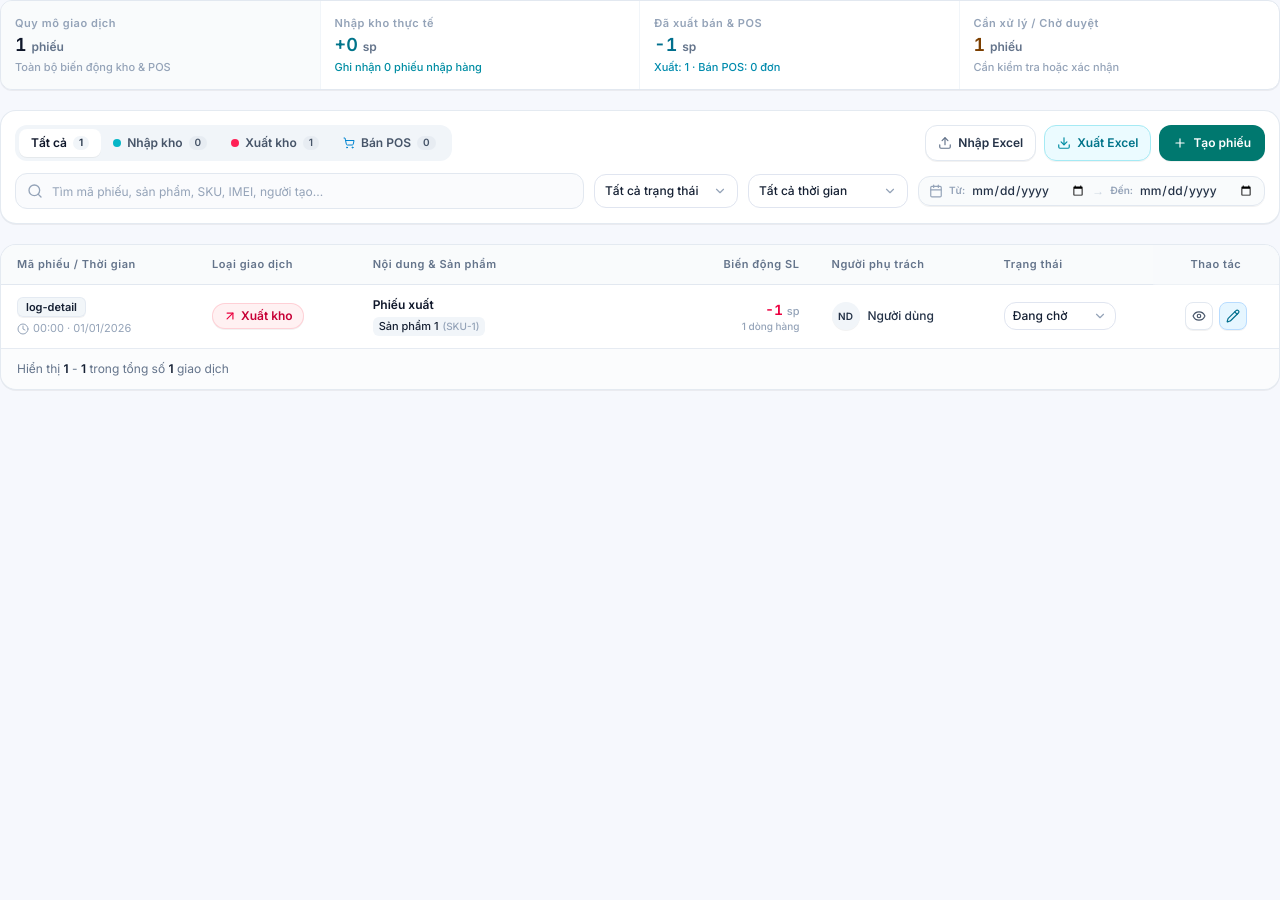
it: StockLogPanel › hiển thị SKU và IMEI đã lưu trong chi tiết phiếu xuất
What coordinates should you click on to do the following:
click the button named "Xem chi tiết"
I would click on:
 (1199, 316)
Its box is [1185,302,1213,330].
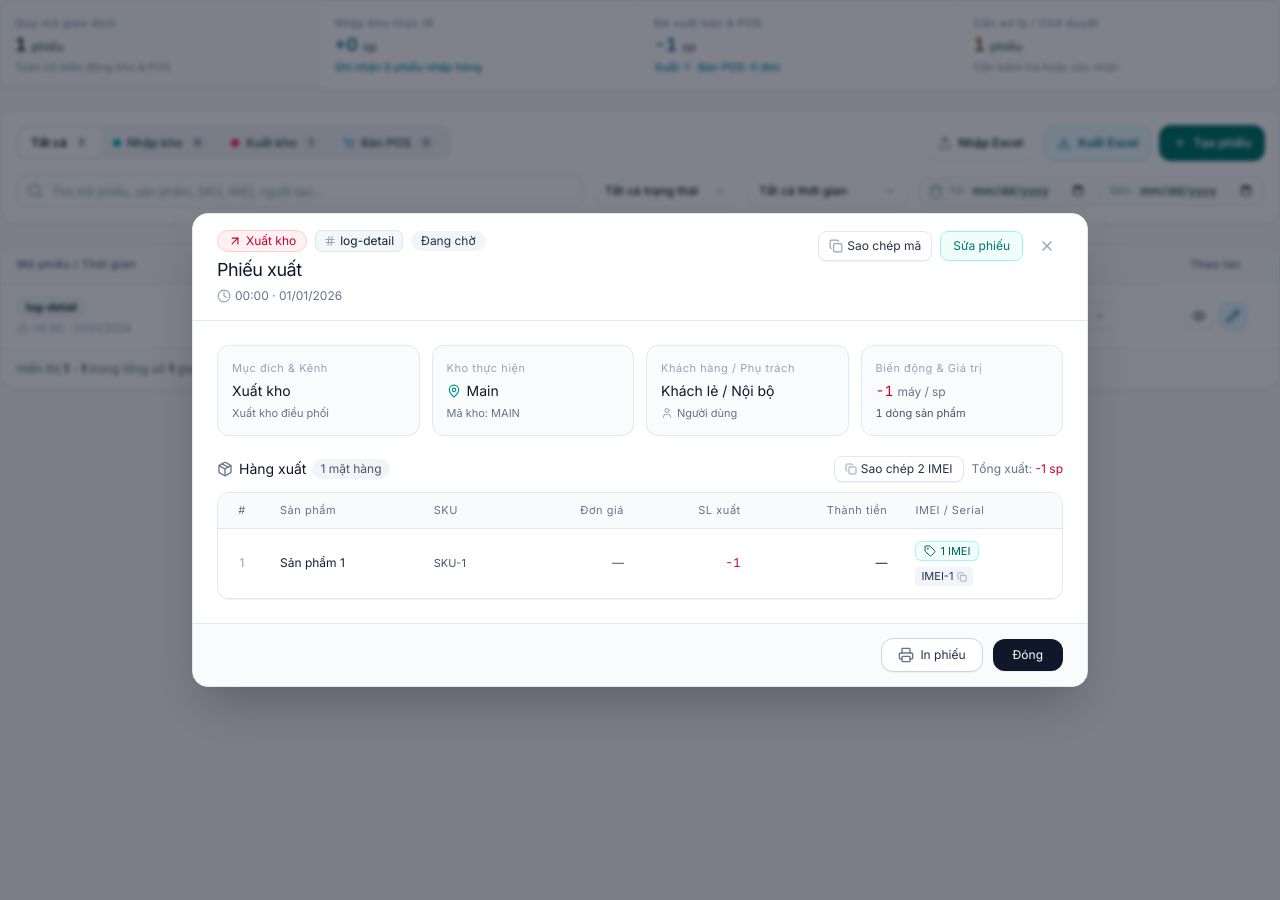
Check: the text "Hàng xuất" is shown, box [239,459,306,479]
Check: the column heading "IMEI / Serial" is shown, box [901,493,1062,528]
Check: the text "SKU-1" is shown, box [420,528,519,598]
